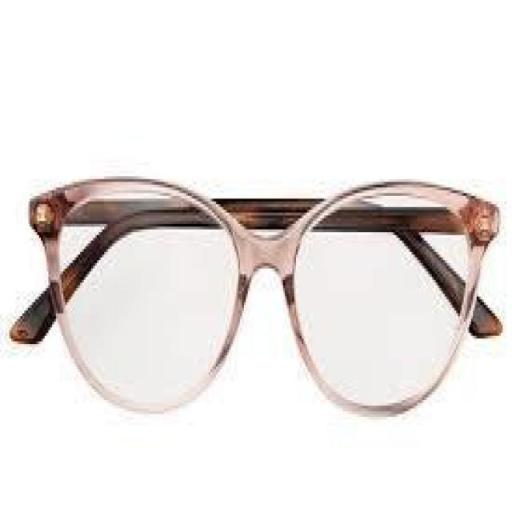glasses: (8, 110, 498, 444)
